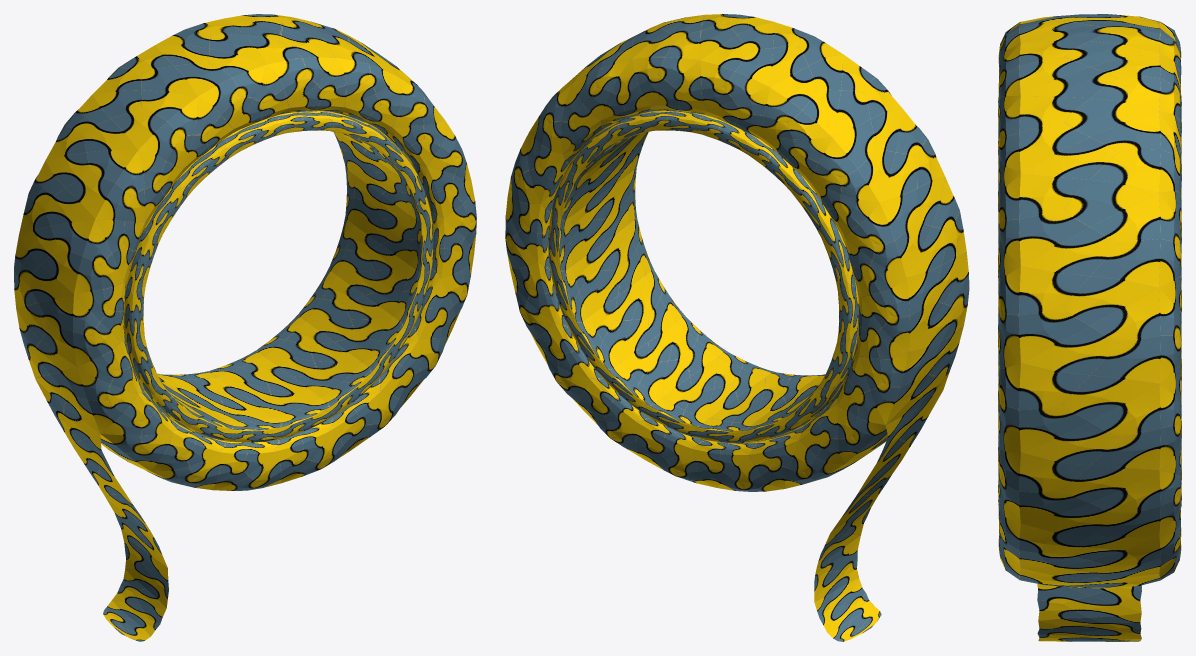
File: Tape.fbx
3 views of the same model, side by side, from view 1: azimuth 30°, elevation 25°; view 2: azimuth 150°, elevation 25°; view 3: azimuth 270°, elevation 25° (orthographic). The views are drawn at different scales.
Parts seen in each view (by area): view 1: Tape; view 2: Tape; view 3: Tape.
Part boxes in pixels (box(x1,y1,x2,y2)): Tape: box(14, 14, 476, 641); Tape: box(505, 14, 969, 641); Tape: box(998, 14, 1181, 641).
Size of the model in its own units: 50.31 by 65.38 by 16.12.
Materials: 1 (1 with a texture image).
